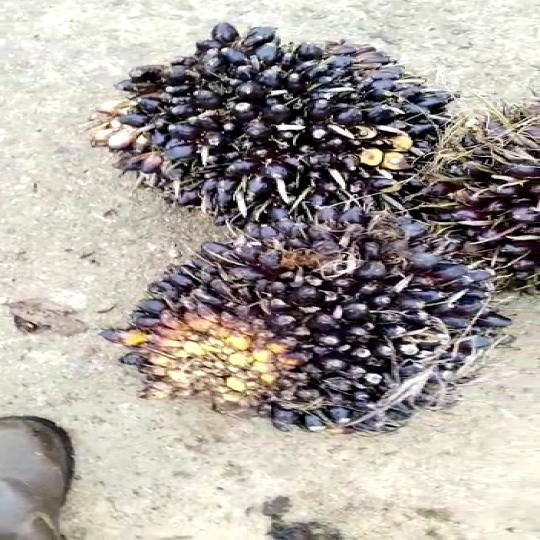mentah: (133, 214, 528, 465), (112, 14, 447, 228)
